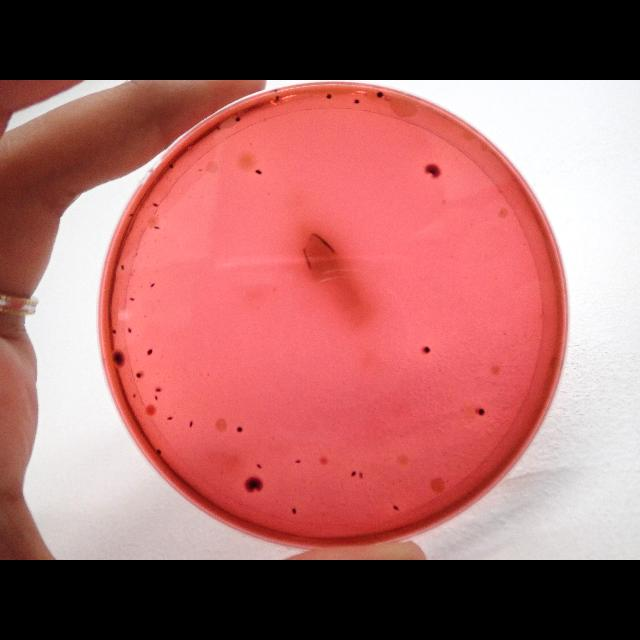colony: (244, 474, 264, 494), (110, 348, 126, 369), (424, 162, 440, 182), (234, 424, 246, 434), (254, 167, 262, 177), (376, 90, 384, 100), (422, 346, 432, 354), (146, 348, 154, 357), (477, 408, 485, 417), (392, 504, 400, 512), (358, 470, 364, 480), (255, 462, 262, 470), (350, 469, 356, 478), (326, 92, 332, 100), (234, 116, 242, 122), (215, 124, 221, 132), (291, 507, 297, 515), (294, 459, 302, 465), (166, 415, 174, 421), (188, 420, 194, 428), (148, 282, 156, 288), (354, 98, 360, 104), (275, 95, 281, 101), (168, 163, 174, 169), (152, 202, 158, 208), (156, 448, 162, 454), (136, 372, 142, 378), (112, 328, 116, 334), (129, 298, 135, 302), (121, 264, 125, 270), (154, 226, 160, 230), (156, 388, 160, 392), (154, 396, 158, 400), (127, 328, 131, 332)
